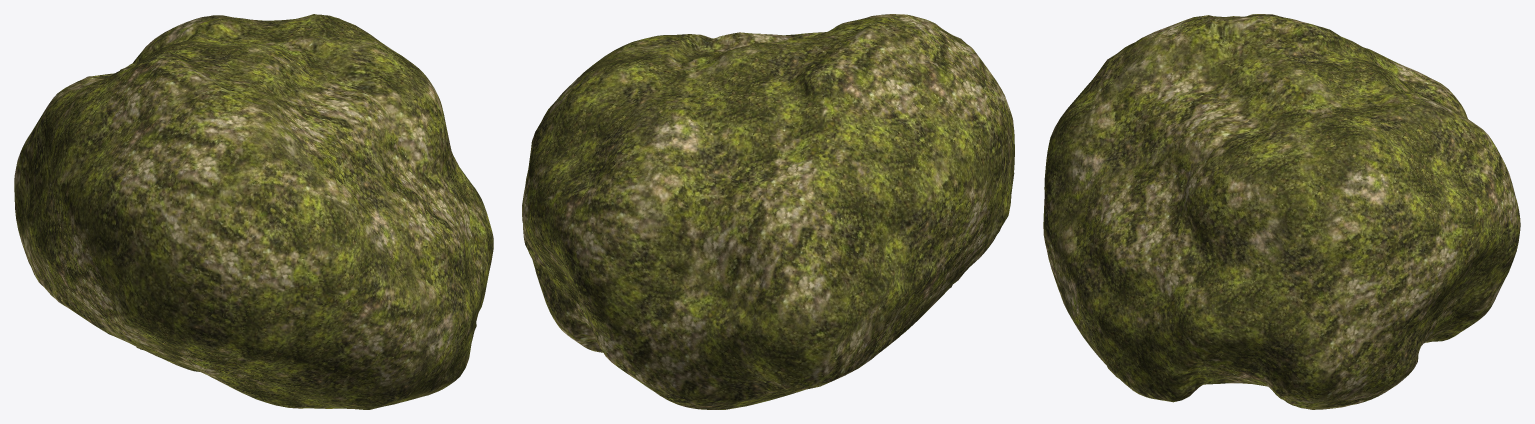
Rendered from Rock 04.obj.
3 renders of one model, left to right at view 1: azimuth 30°, elevation 25°; view 2: azimuth 150°, elevation 25°; view 3: azimuth 270°, elevation 25°, orthographic. The views are drawn at different scales.
Visible parts, largest first — view 1: Rock 04; view 2: Rock 04; view 3: Rock 04.
Part boxes in pixels (x1,y1,x2,y2): Rock 04: [14, 14, 493, 409]; Rock 04: [522, 14, 1014, 409]; Rock 04: [1043, 14, 1520, 409].
Bounding box in the file's own units: 120 × 92.26 × 132.
